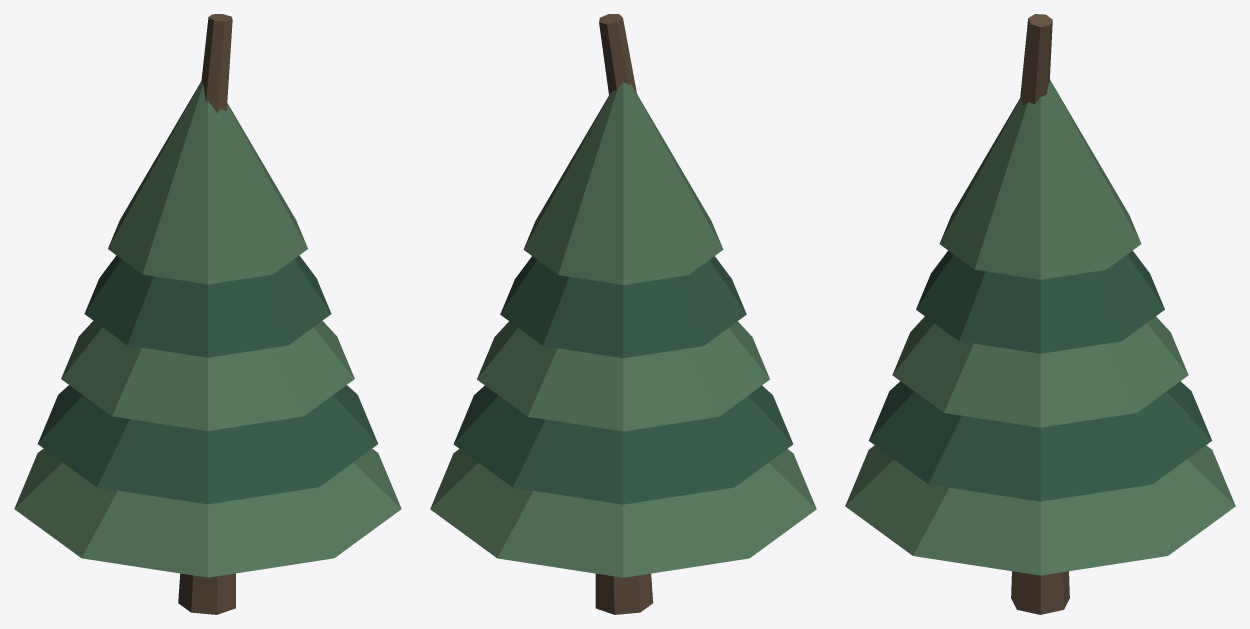
File: vegetation-pine.lod0.glb
3 views of the same model, side by side, from view 1: azimuth 30°, elevation 25°; view 2: azimuth 150°, elevation 25°; view 3: azimuth 270°, elevation 25° (orthographic).
Parts seen in each view (by area): view 1: vegetation-pine__body; view 2: vegetation-pine__body; view 3: vegetation-pine__body.
Part boxes in pixels (x1,y1,x2,y2): vegetation-pine__body: (14, 14, 401, 614); vegetation-pine__body: (430, 14, 816, 614); vegetation-pine__body: (845, 14, 1235, 614).
Bounding box in the file's own units: 3.83 × 6.47 × 3.88.
